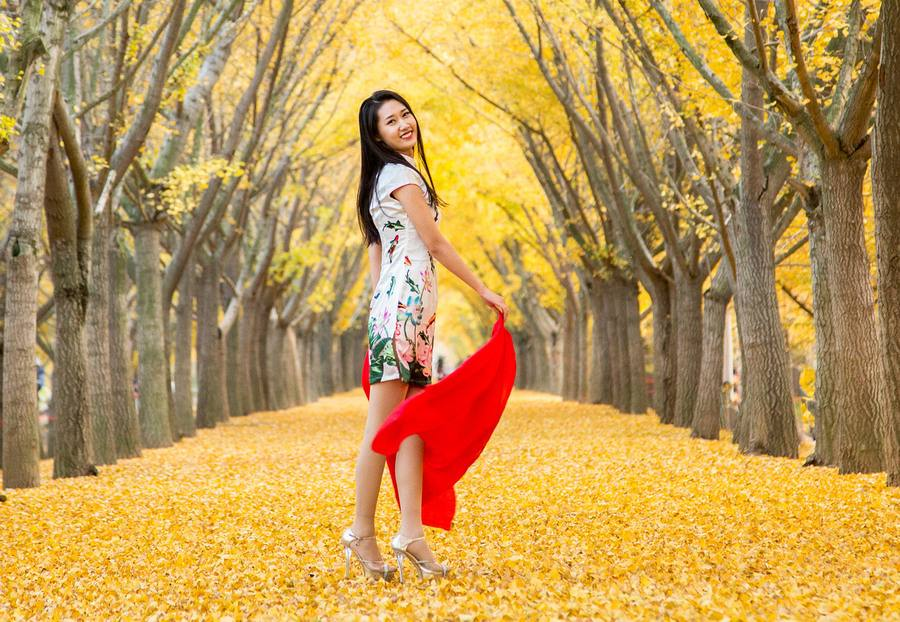person: (318, 79, 509, 417)
